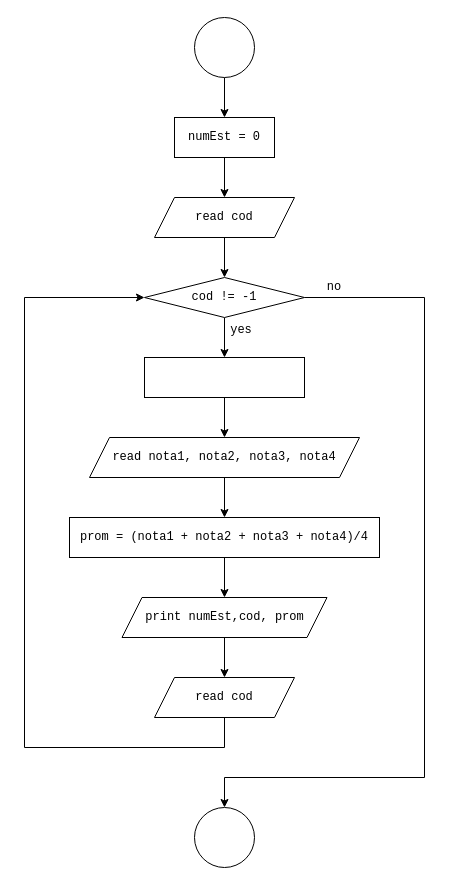
Image size: 450x885. Some labels were removed from this diagram. The box of each missing label's shape, as (x1, y1, x2, y2) in pixels:
End: (194, 806, 254, 868)
numEst = numEst + 1: (144, 356, 304, 398)
Start: (194, 16, 254, 78)
